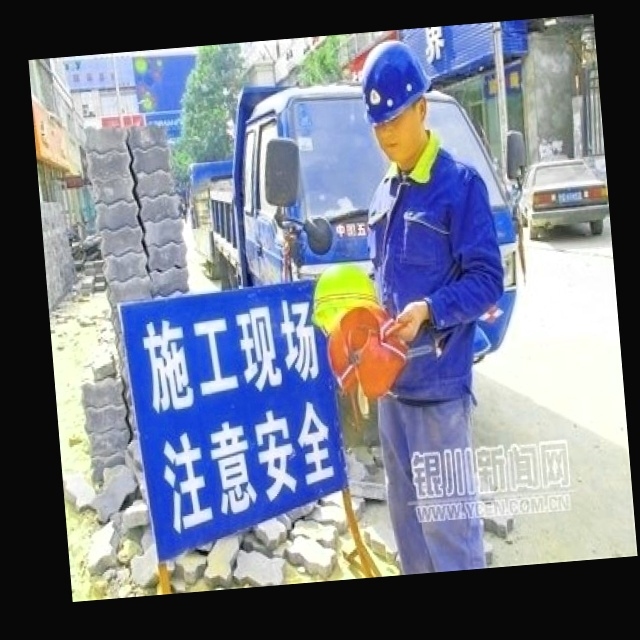Con_Casco: (358, 36, 435, 162)
